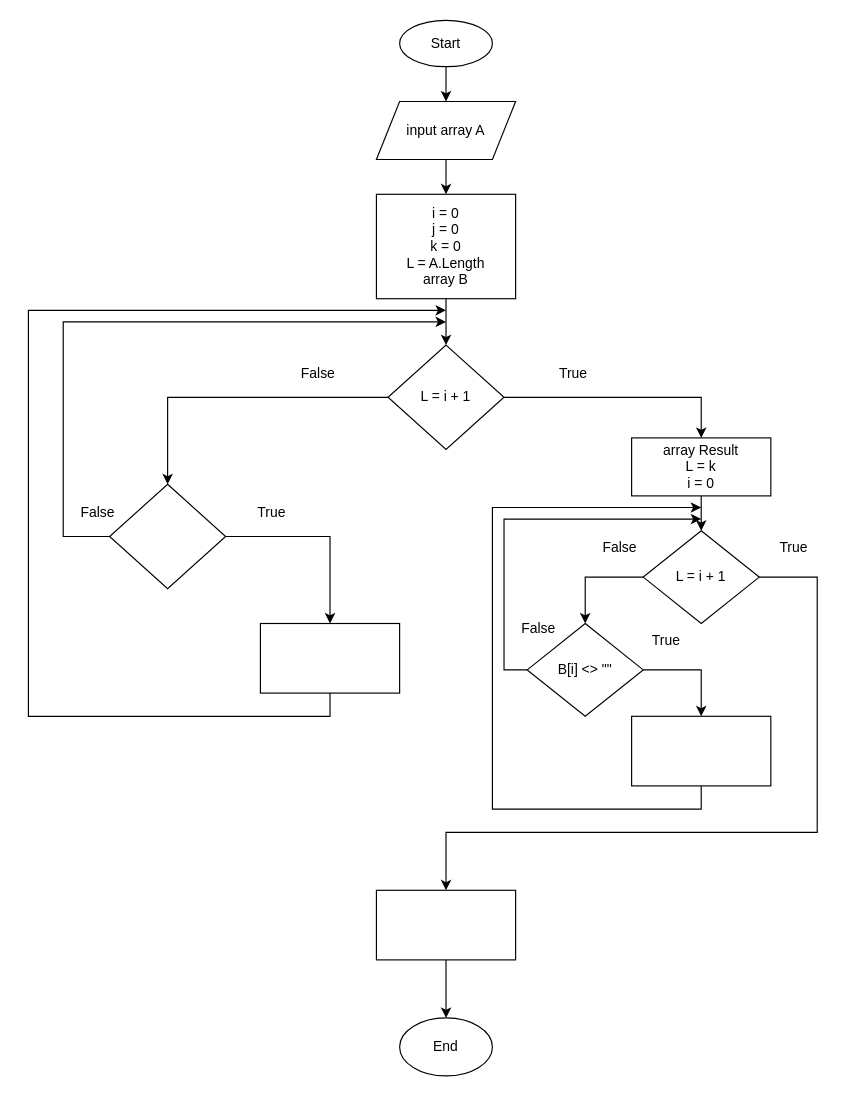
Some shapes in this 849 by 1096 pixel diagram are drawn without their labels. Here are the shapes that lost their labels. From the top down, the centre of each, then its label:
the point at 167,536: A[i]. Length <= 3
the point at 329,657: B[j] = A[i] j = j + 1 k = k +1
the point at 700,750: Result[i] = A[i] i = i + 1
the point at 445,924: print array Result
